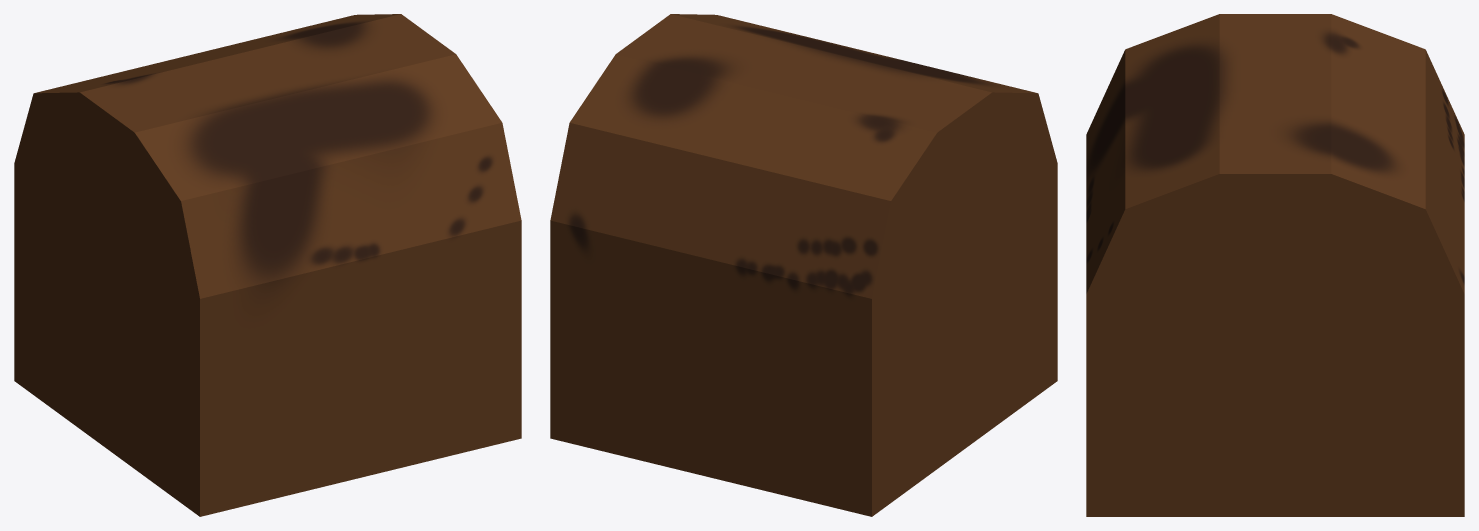
The model's file is Pematangsawah.fbx.
The picture shows the model from 3 angles, left to right: view 1: azimuth 30°, elevation 25°; view 2: azimuth 150°, elevation 25°; view 3: azimuth 270°, elevation 25°; orthographic projection.
Visible parts, largest first — view 1: Cube; view 2: Cube; view 3: Cube.
Part boxes in pixels (x1=…): Cube: x1=14, y1=14, x2=521, y2=516; Cube: x1=550, y1=14, x2=1057, y2=516; Cube: x1=1086, y1=14, x2=1464, y2=516.
Bounding box in the file's own units: 200 × 200 × 200.
